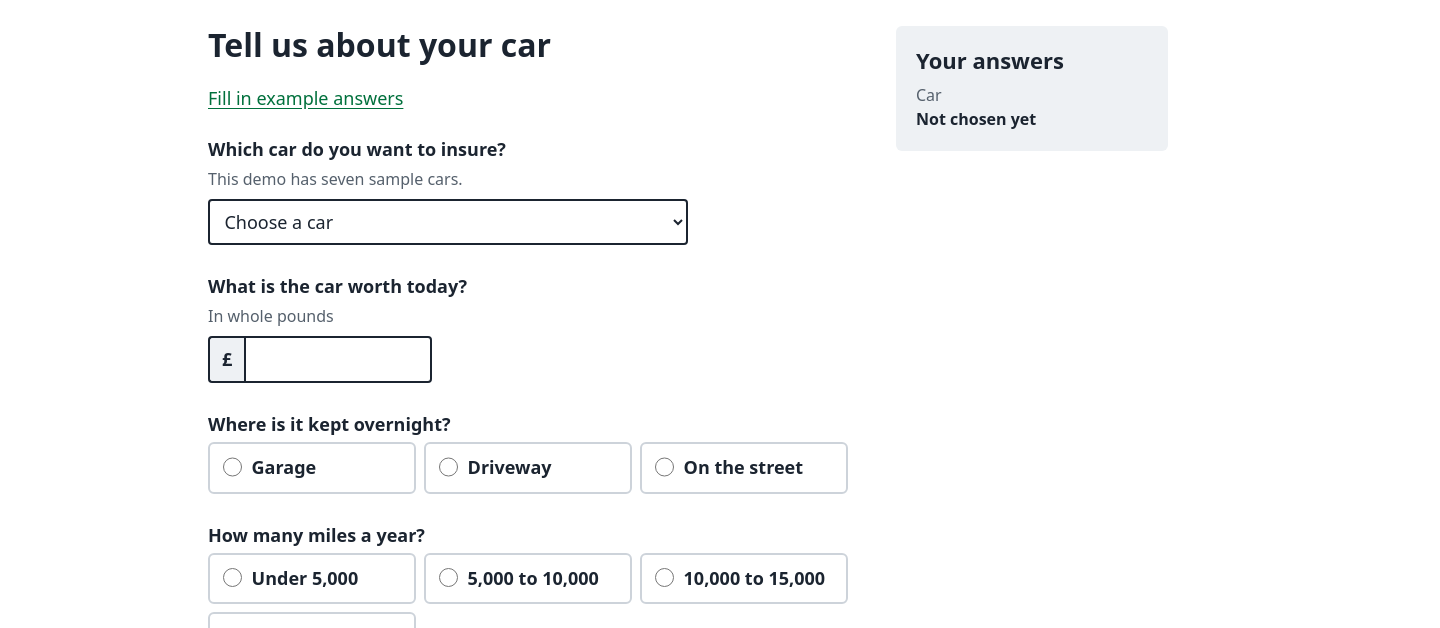
Test case: when the server refuses an answer the browser let through (400) › clears a message when the person changes that answer
Click the button "Fill in example answers". click: (306, 98)
box: x1=208 y1=81 x2=403 y2=116
(page scrolled)
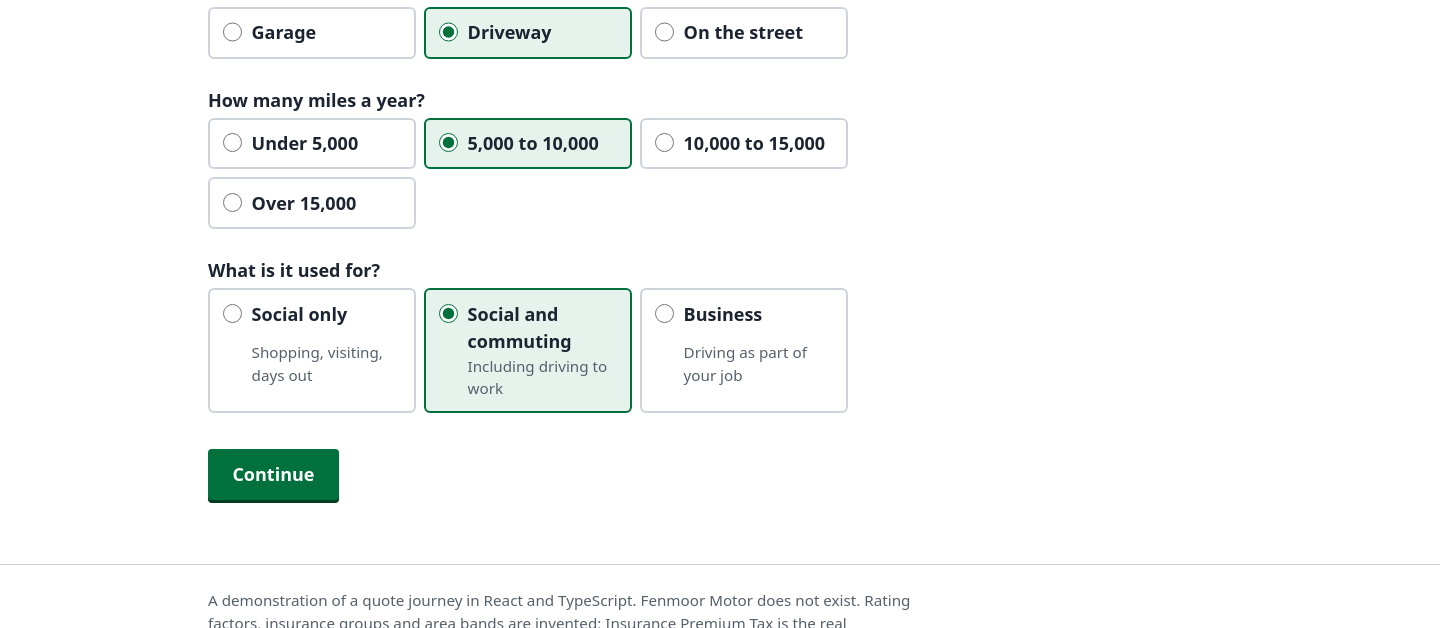
Click the button "Continue". click: (273, 474)
box: x1=208 y1=448 x2=339 y2=500
(page scrolled)
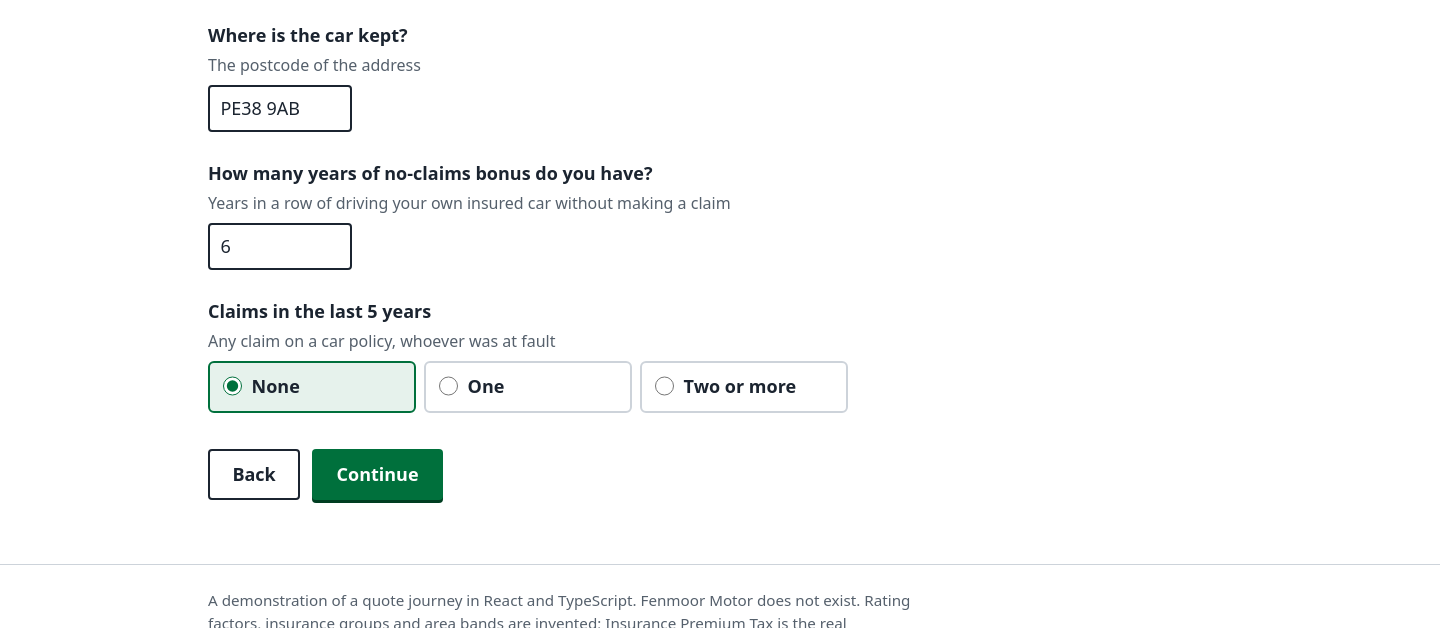
Click the button "Continue". click: (378, 474)
box: x1=312 y1=449 x2=443 y2=500
(page scrolled)
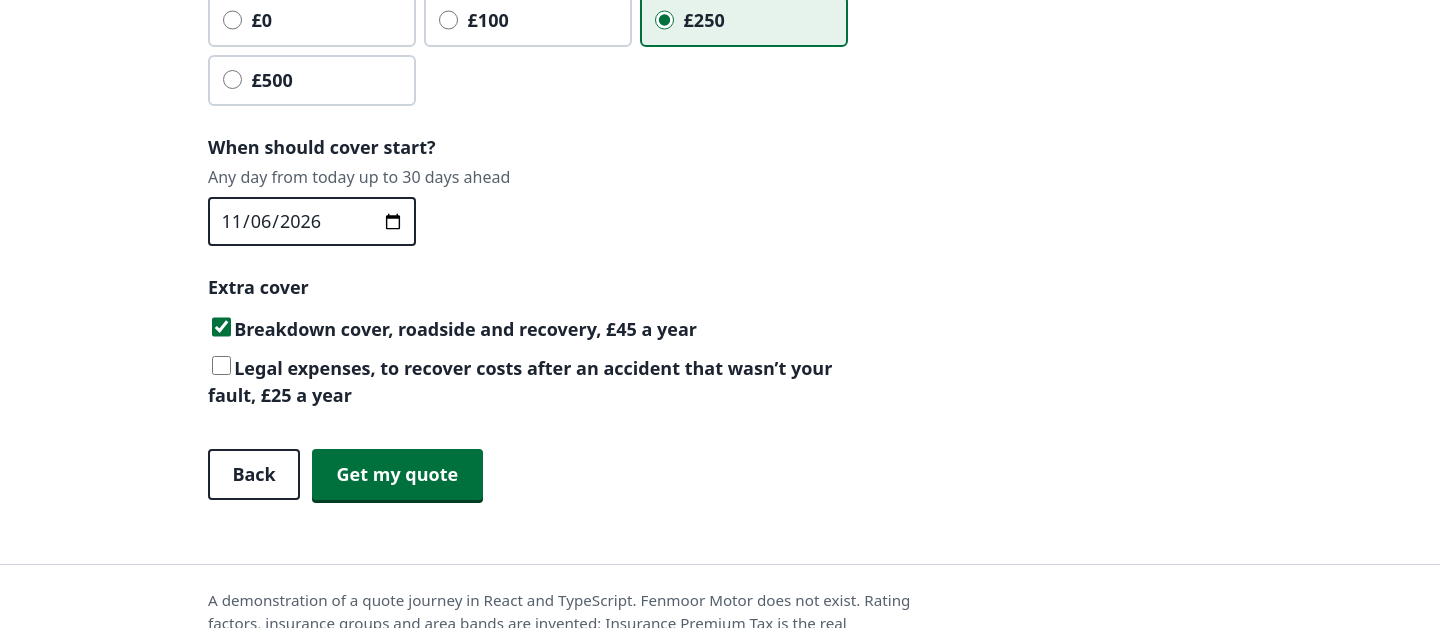
Click the button "Get my quote". click: (397, 475)
box: x1=312 y1=449 x2=483 y2=500
(page scrolled)
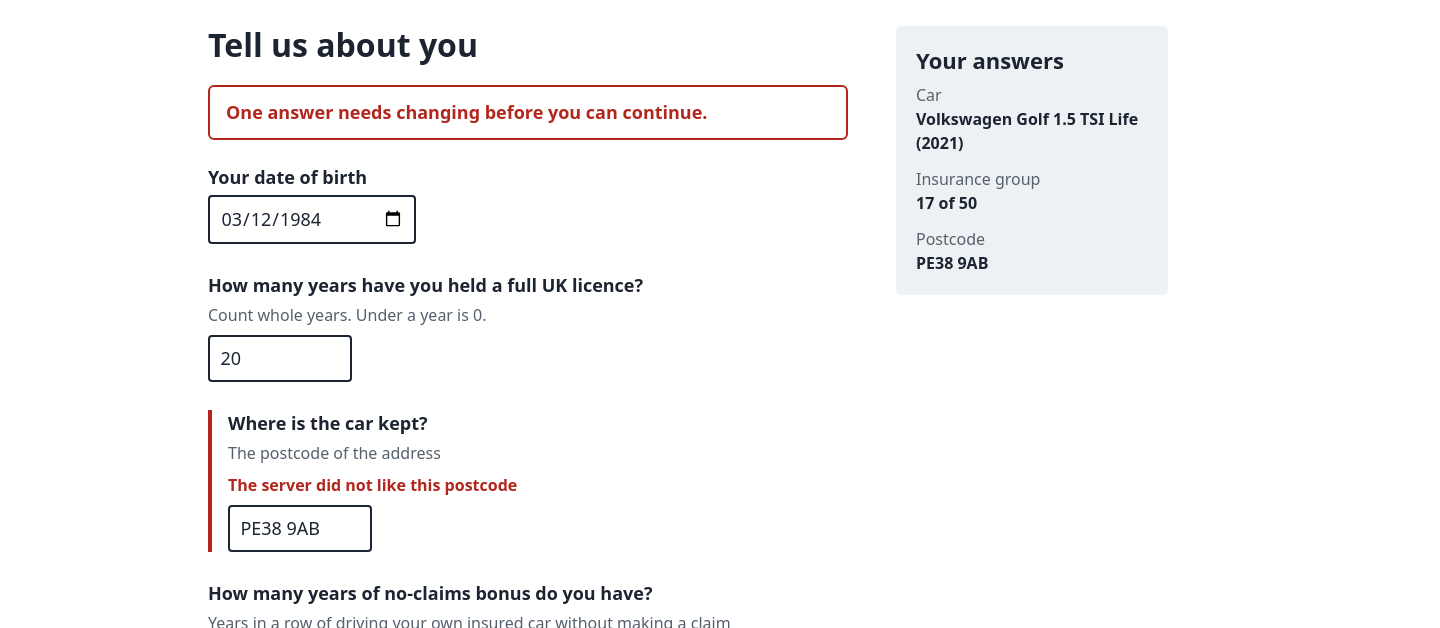
Result: the text "The server did not like this postcode" is shown at x1=228 y1=474 x2=517 y2=496
Type "2" into the field labelled "Where is the car kept?". click: (300, 528)
box: x1=228 y1=505 x2=372 y2=552
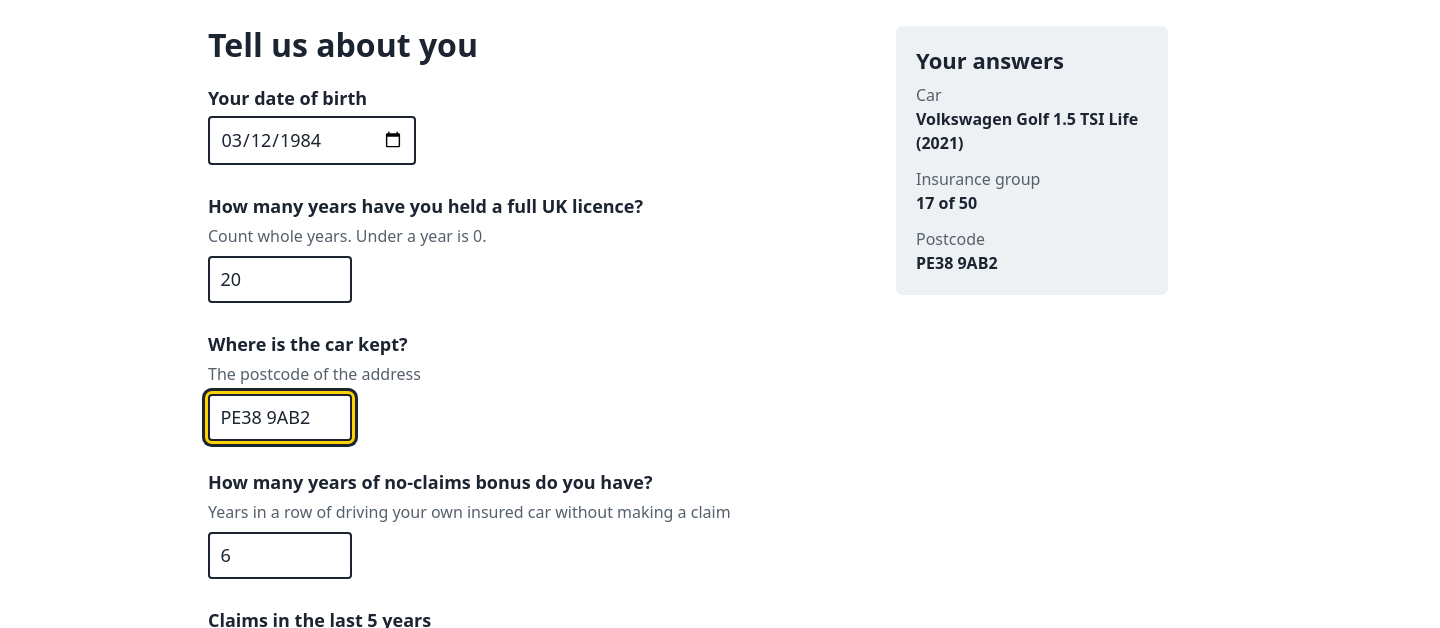
Result: the text "The server did not like this postcode" is gone
